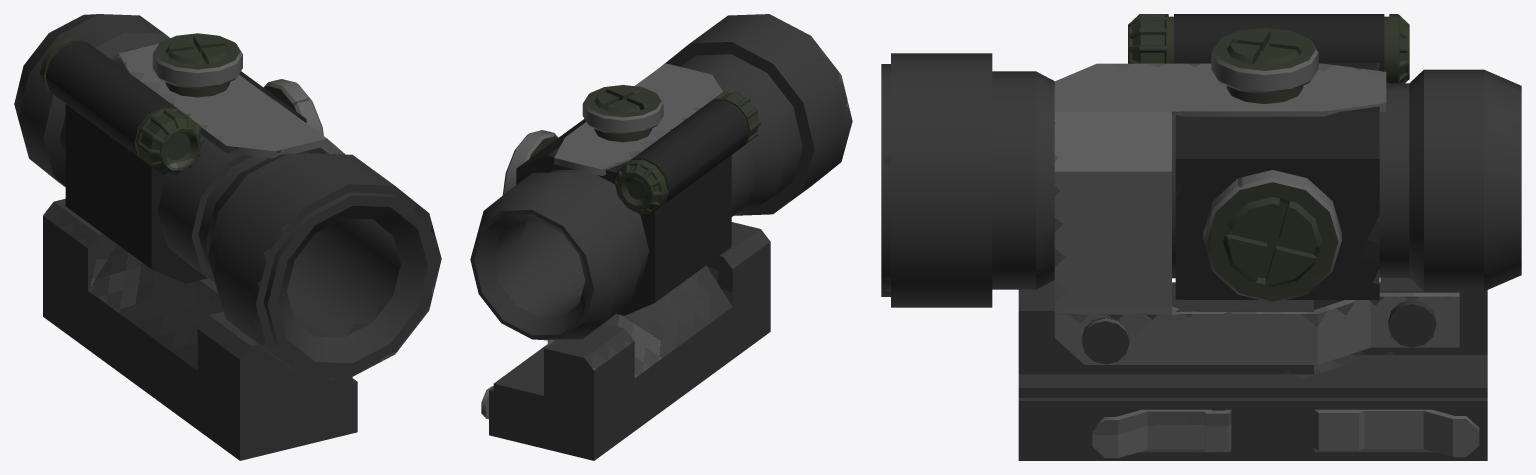
Rendered from aimpoint.glb.
The picture shows the model from 3 angles, left to right: view 1: azimuth 30°, elevation 25°; view 2: azimuth 150°, elevation 25°; view 3: azimuth 270°, elevation 25°; orthographic projection. The views are drawn at different scales.
Parts seen in each view (by area): view 1: Body; view 2: Body; view 3: Body.
Boxes of the visible parts, x1,y1,x2,y2 form: Body: [14, 14, 441, 460]; Body: [470, 14, 852, 460]; Body: [881, 14, 1521, 460].
Size of the model in its own units: 0.0496 by 0.073 by 0.1104.
Materials: 1 (1 with a texture image).
